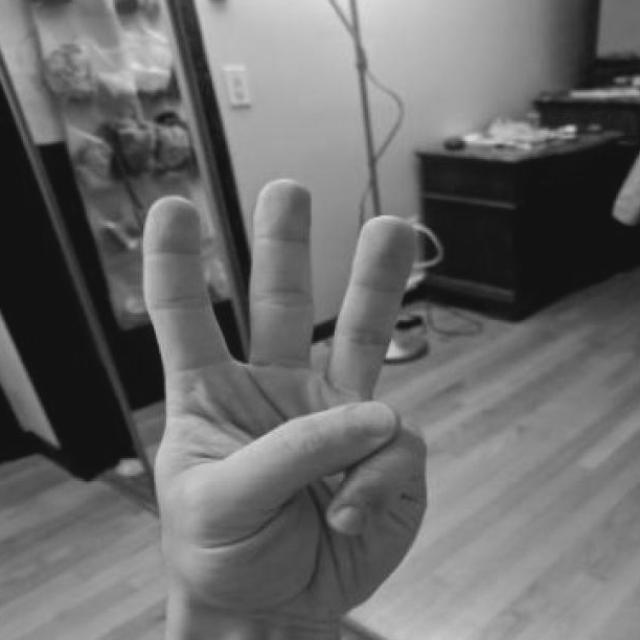W: (128, 165, 460, 640)
